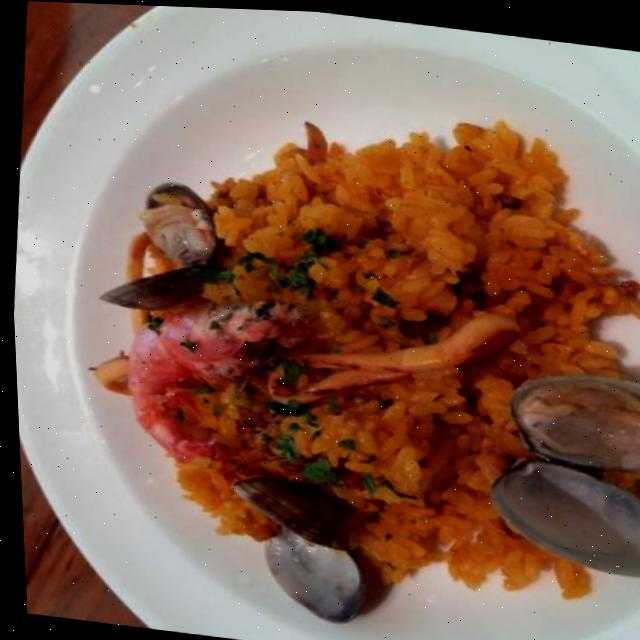炸货点心: (104, 3, 640, 640)
